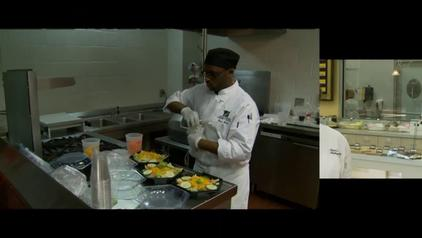crouch: (360, 82, 376, 115)
sit: (360, 82, 376, 115)
stay: (360, 82, 376, 115)
